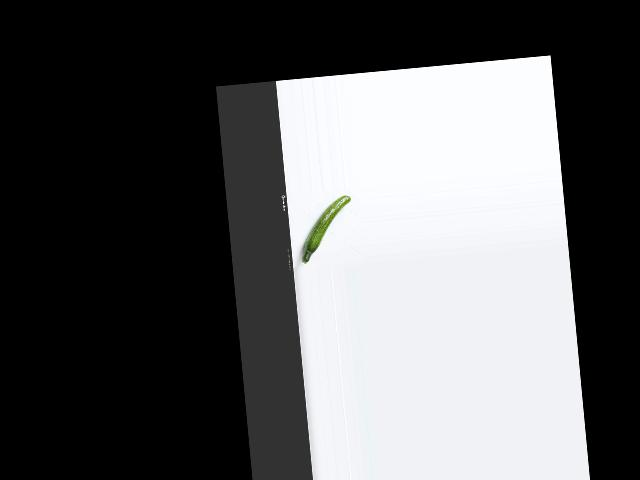cucumber: (296, 195, 356, 264)
